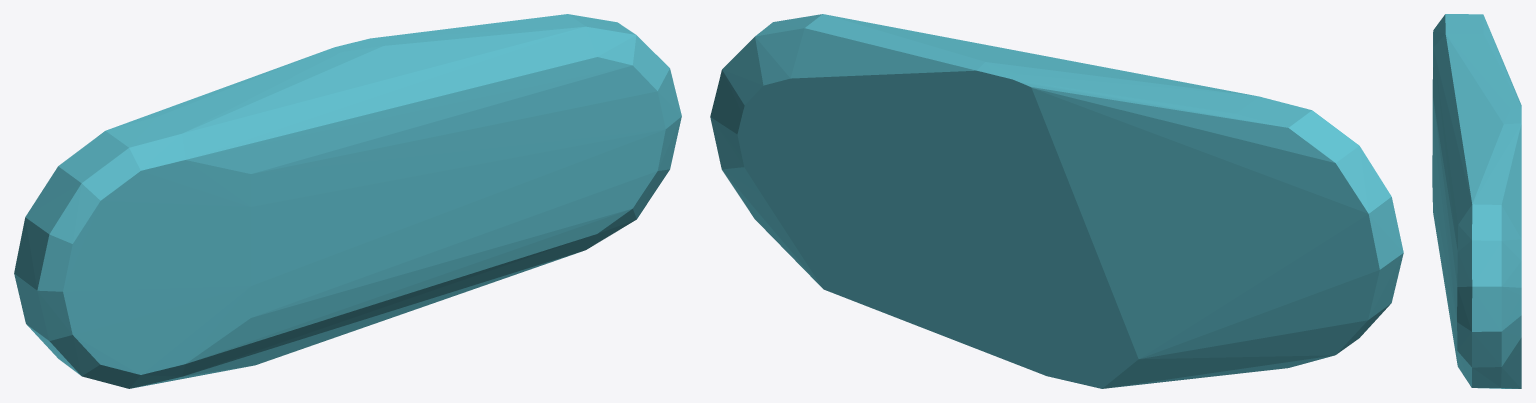
3 views of the same model, side by side, from view 1: azimuth 30°, elevation 25°; view 2: azimuth 150°, elevation 25°; view 3: azimuth 270°, elevation 25° (orthographic). The views are drawn at different scales.
Bounding box in the file's own units: 0.0335 × 0.014 × 0.00488.
